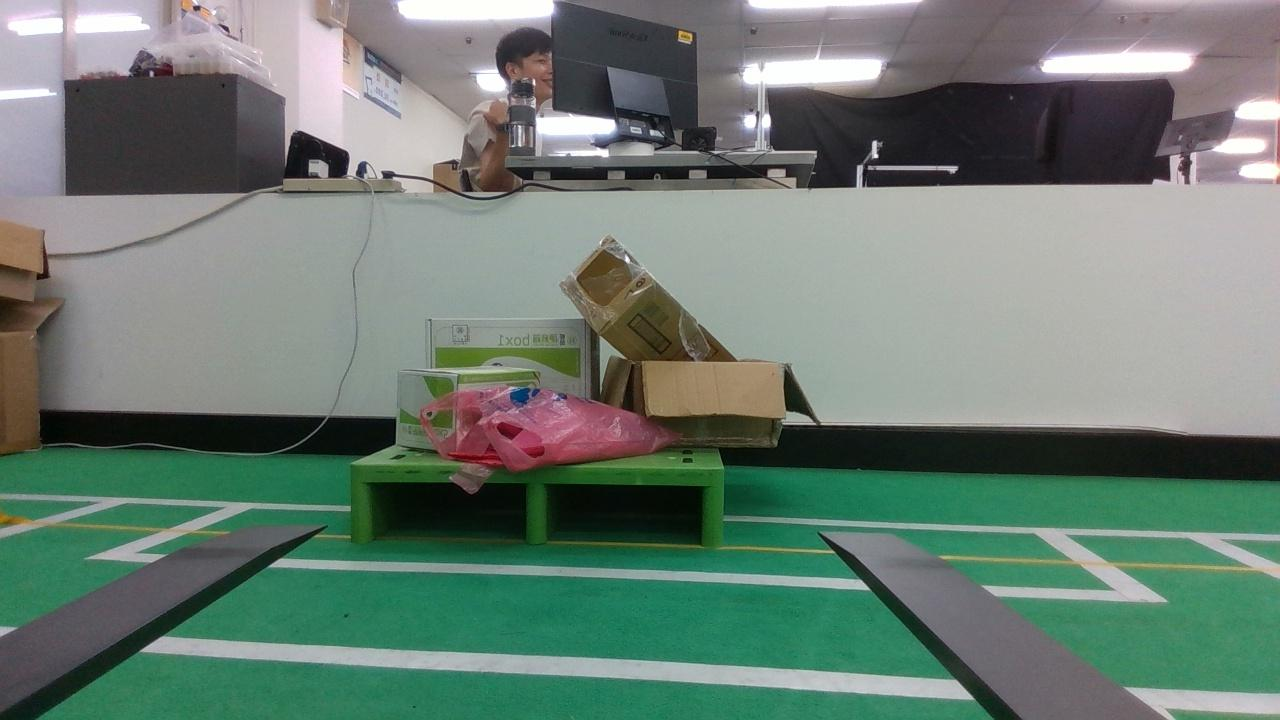Pallet: (349, 465, 723, 545)
